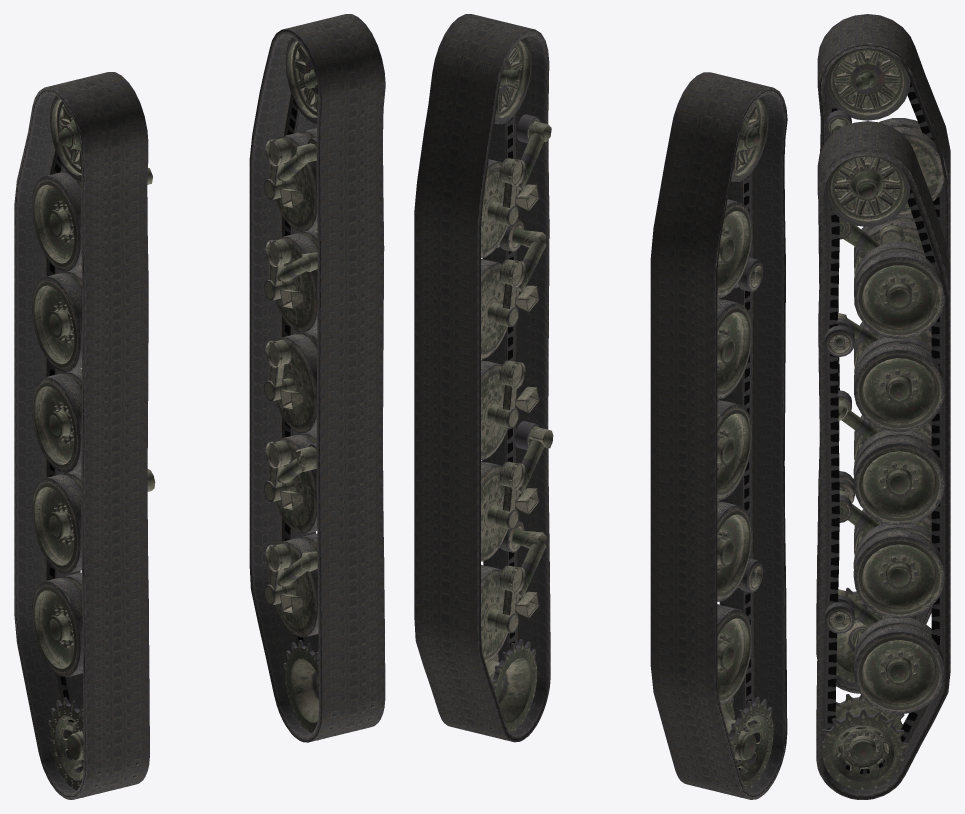
Rendered from Chassis.glb.
3 views of the same model, side by side, from view 1: azimuth 30°, elevation 25°; view 2: azimuth 150°, elevation 25°; view 3: azimuth 270°, elevation 25° (orthographic). The views are drawn at different scales.
Visible parts, largest first — view 1: set_0_group_0, set_1_group_0, set_3_group_0, set_2_group_0; view 2: set_0_group_0, set_1_group_0, set_3_group_0, set_2_group_0; view 3: set_3_group_0, set_1_group_0, set_2_group_0, set_0_group_0.
Boxes of the visible parts, box(x1,y1,x2,y2) form: set_0_group_0: box(14, 72, 149, 799); set_1_group_0: box(249, 14, 385, 742); set_3_group_0: box(264, 37, 373, 740); set_2_group_0: box(31, 96, 155, 797); set_0_group_0: box(650, 72, 787, 799); set_1_group_0: box(414, 14, 550, 742); set_3_group_0: box(451, 37, 553, 740); set_2_group_0: box(687, 96, 773, 797); set_3_group_0: box(822, 155, 944, 789); set_1_group_0: box(816, 121, 950, 799); set_2_group_0: box(824, 48, 944, 682); set_0_group_0: box(816, 14, 950, 693).
Size of the model in its own units: 2.62 by 5.87 by 1.1.
Materials: 4 (4 with a texture image).
